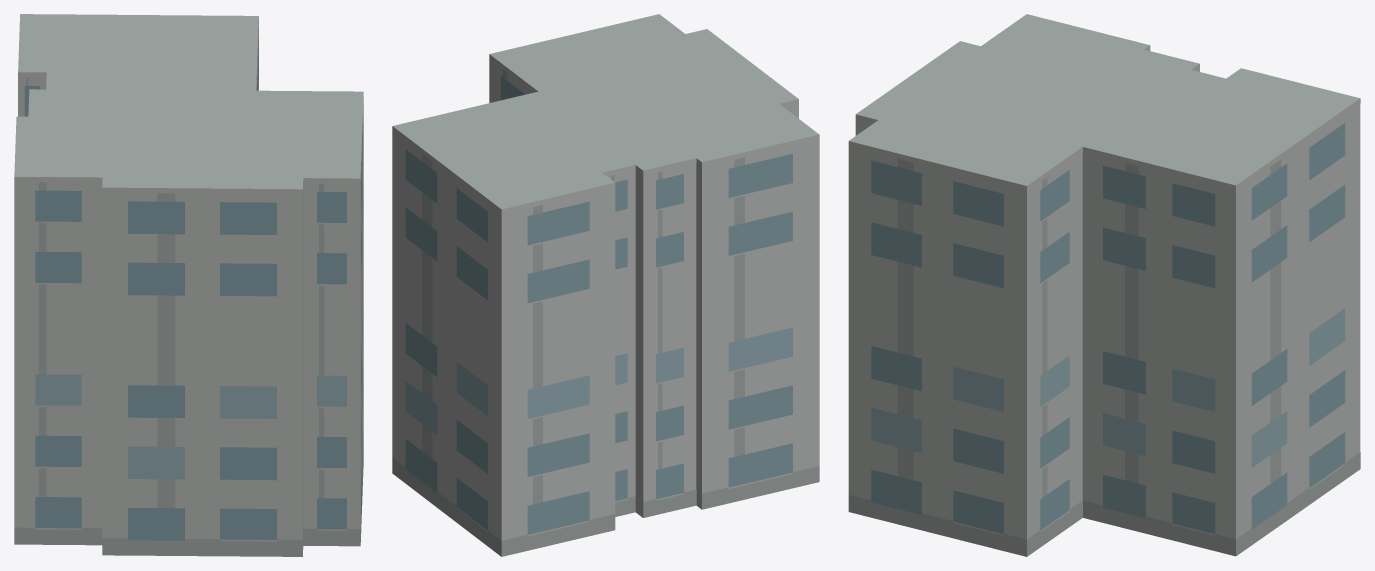
The model's file is survey-upis-32615209.glb.
The picture shows the model from 3 angles, left to right: view 1: azimuth 30°, elevation 25°; view 2: azimuth 150°, elevation 25°; view 3: azimuth 270°, elevation 25°; orthographic projection. The views are drawn at different scales.
Visible parts, largest first — view 1: survey-upis-32615209.tmp; view 2: survey-upis-32615209.tmp; view 3: survey-upis-32615209.tmp.
Boxes of the visible parts, bbox=[...] form: survey-upis-32615209.tmp: bbox=[14, 14, 363, 556]; survey-upis-32615209.tmp: bbox=[392, 14, 819, 556]; survey-upis-32615209.tmp: bbox=[848, 14, 1360, 556].
Bounding box in the file's own units: 16.91 × 17 × 21.27.
